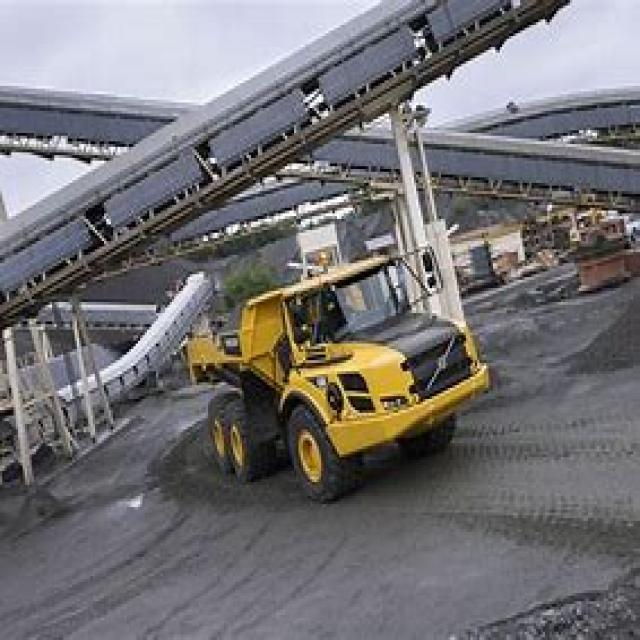dump_truck: (178, 246, 491, 509)
